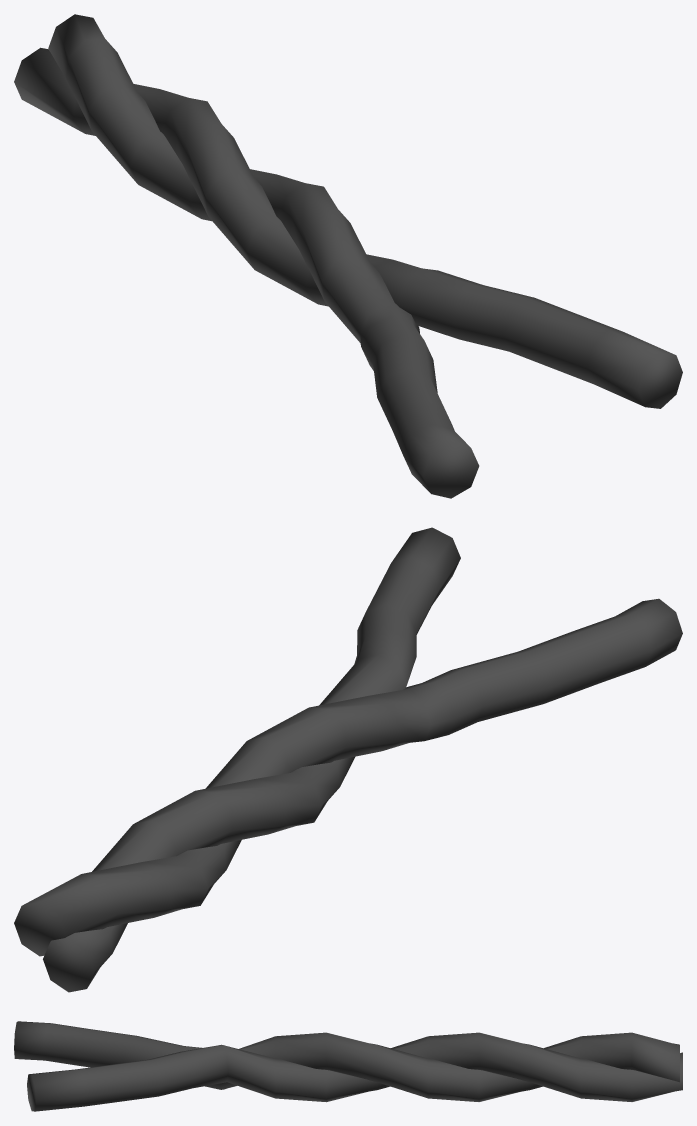
The model's file is wire.fbx.
The picture shows the model from 3 angles, top to bottom: view 1: azimuth 30°, elevation 25°; view 2: azimuth 150°, elevation 25°; view 3: azimuth 270°, elevation 25°; orthographic projection. The views are drawn at different scales.
Parts seen in each view (by area): view 1: Circle.001; view 2: Circle.001; view 3: Circle.001.
Part boxes in pixels (x1=…): Circle.001: x1=14, y1=14, x2=682, y2=498; Circle.001: x1=14, y1=527, x2=682, y2=992; Circle.001: x1=14, y1=1021, x2=682, y2=1111.
Bounding box in the file's own units: 0.4133 × 0.139 × 1.34.
